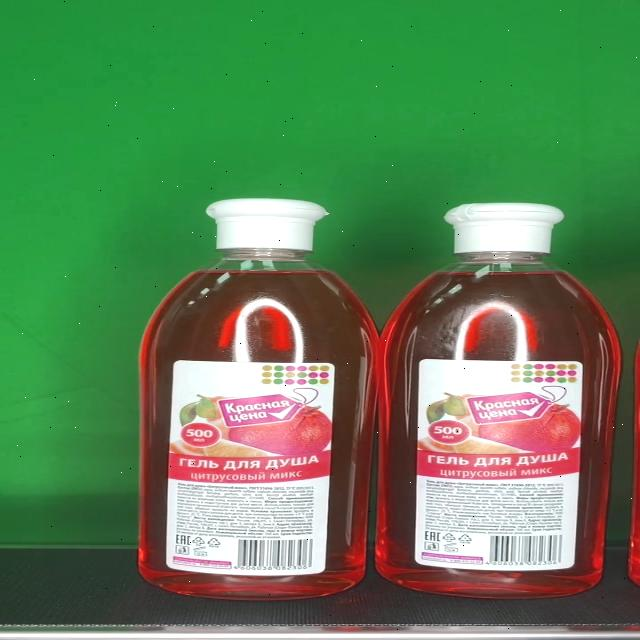Bottle: (136, 198, 378, 601), (379, 203, 622, 599)
Cap: (446, 203, 567, 254), (208, 198, 329, 248)
